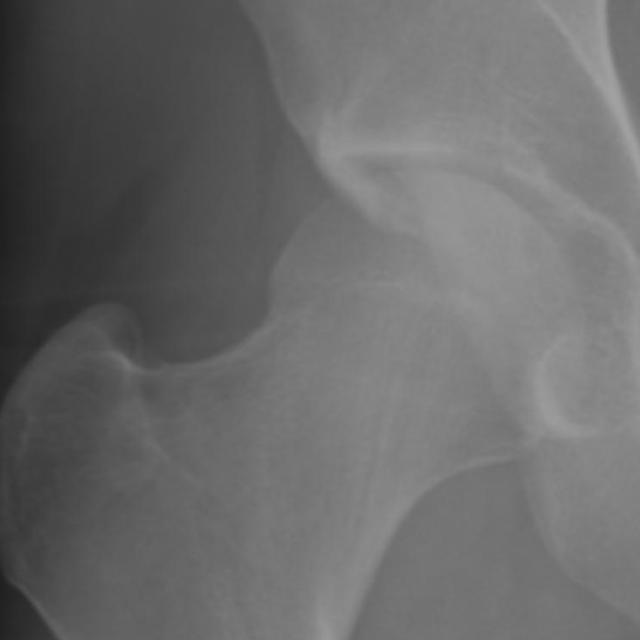Fitted_femural_head: (318, 171, 432, 318)
